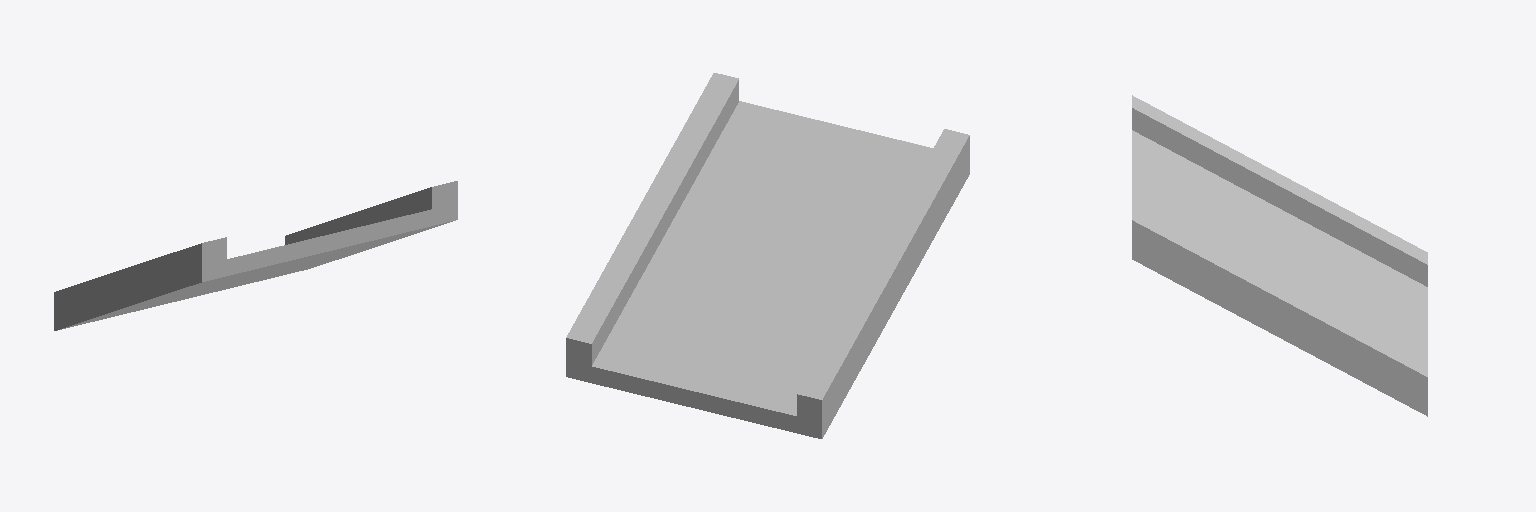
Rendered from rampD.obj.
3 renders of one model, left to right at view 1: azimuth 30°, elevation 25°; view 2: azimuth 150°, elevation 25°; view 3: azimuth 270°, elevation 25°, orthographic.
Parts seen in each view (by area): view 1: rampD; view 2: rampD; view 3: rampD.
Boxes of the visible parts, x1=… form: rampD: x1=54, y1=181, x2=457, y2=330; rampD: x1=566, y1=73, x2=969, y2=438; rampD: x1=1132, y1=95, x2=1427, y2=416.
Bounding box in the file's own units: 0.9999 × 0.7333 × 0.9999.